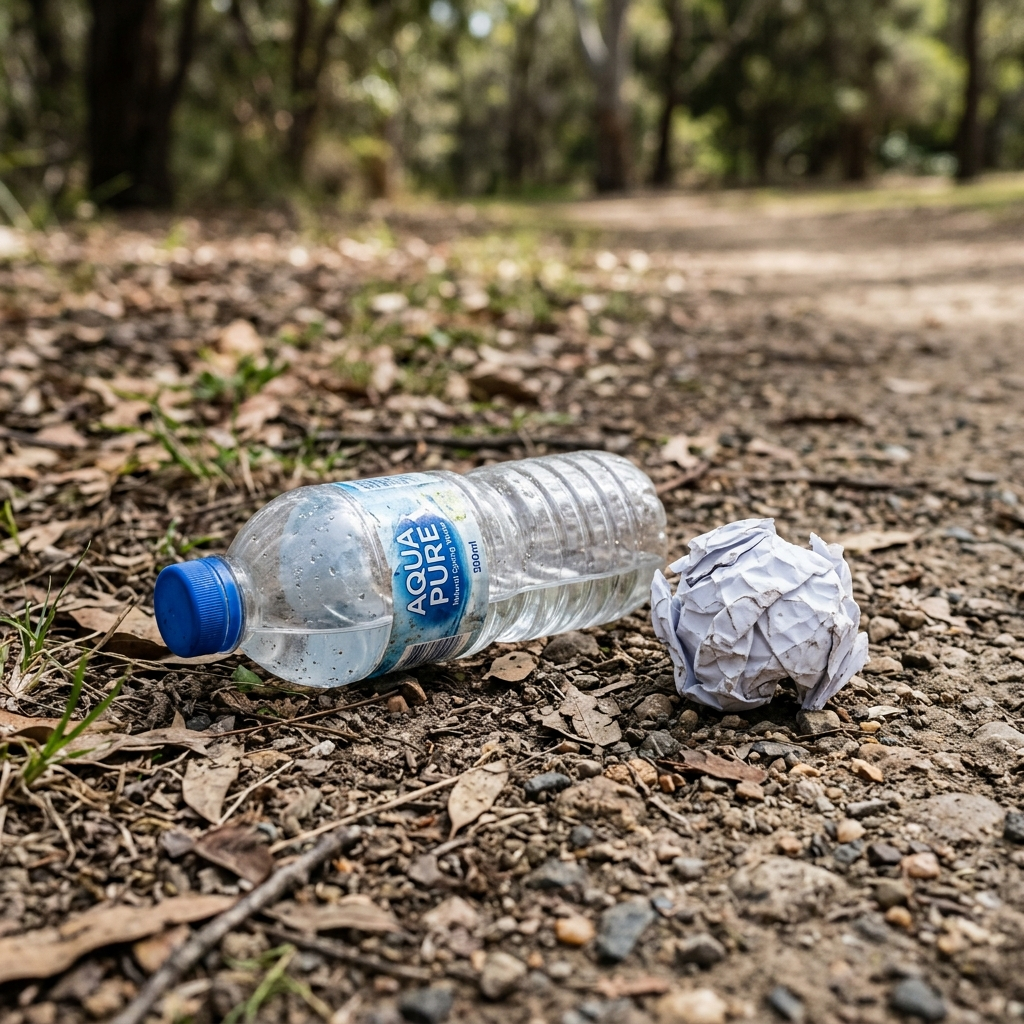Paper: (650, 519, 868, 710)
Plastic: (155, 451, 665, 686)
